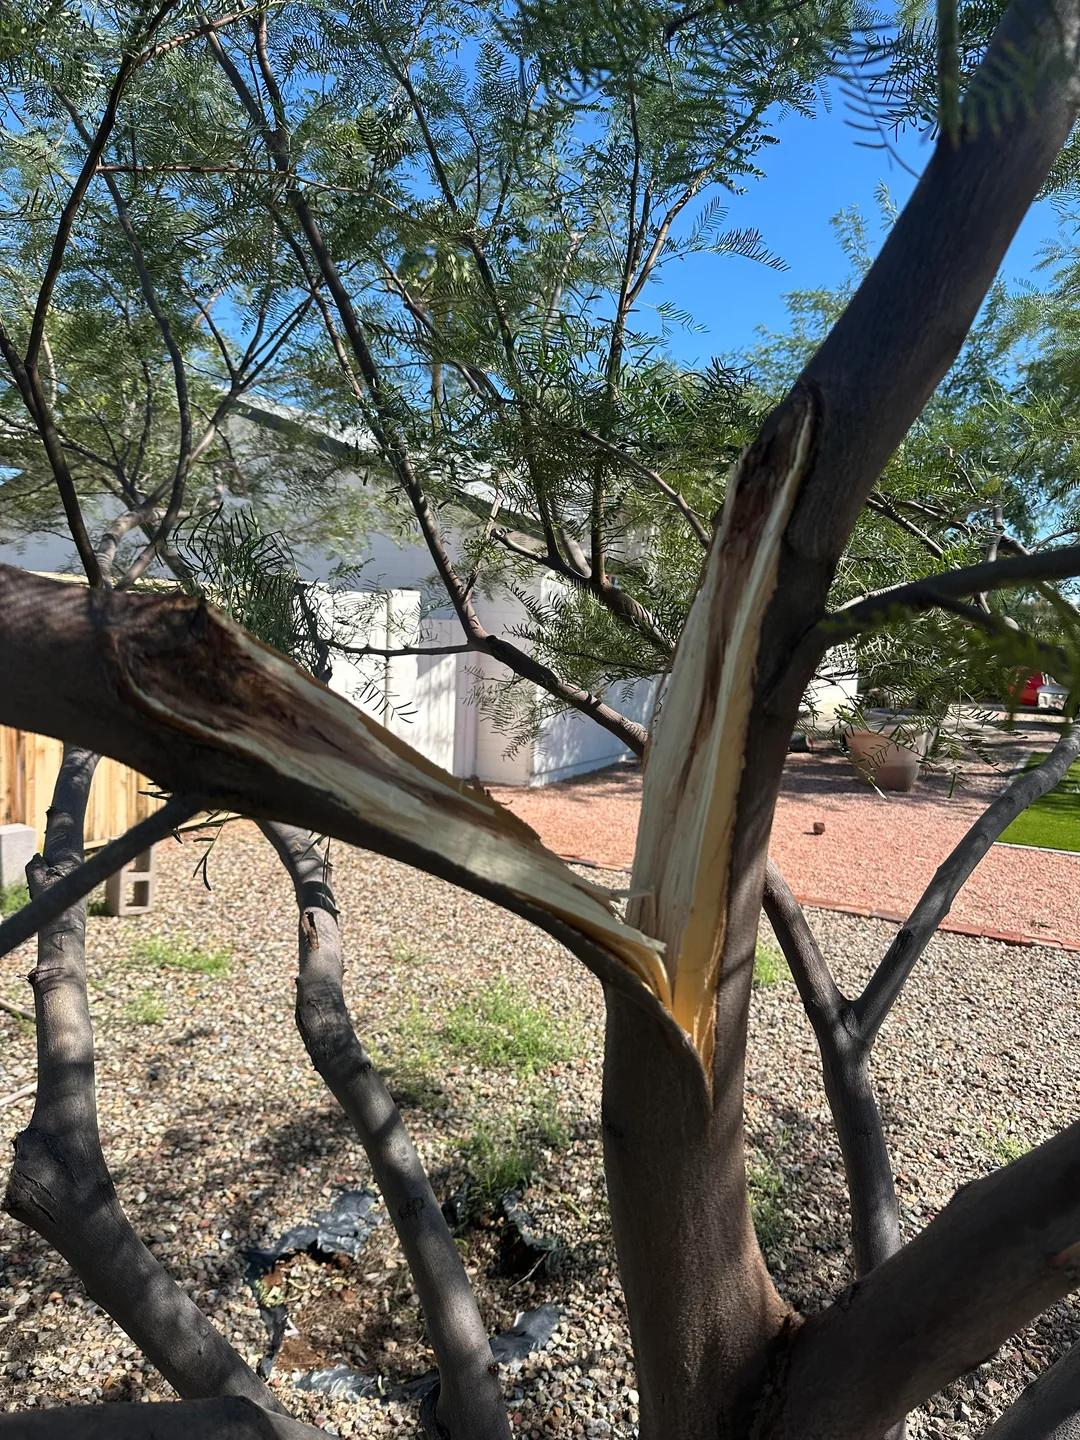mechanical damage: (118, 596, 680, 1016), (628, 392, 817, 1067)
